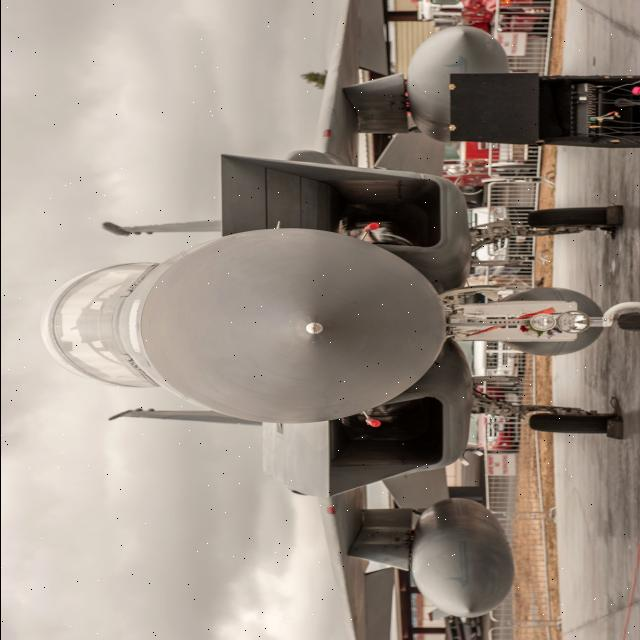F15: (20, 1, 640, 639)
